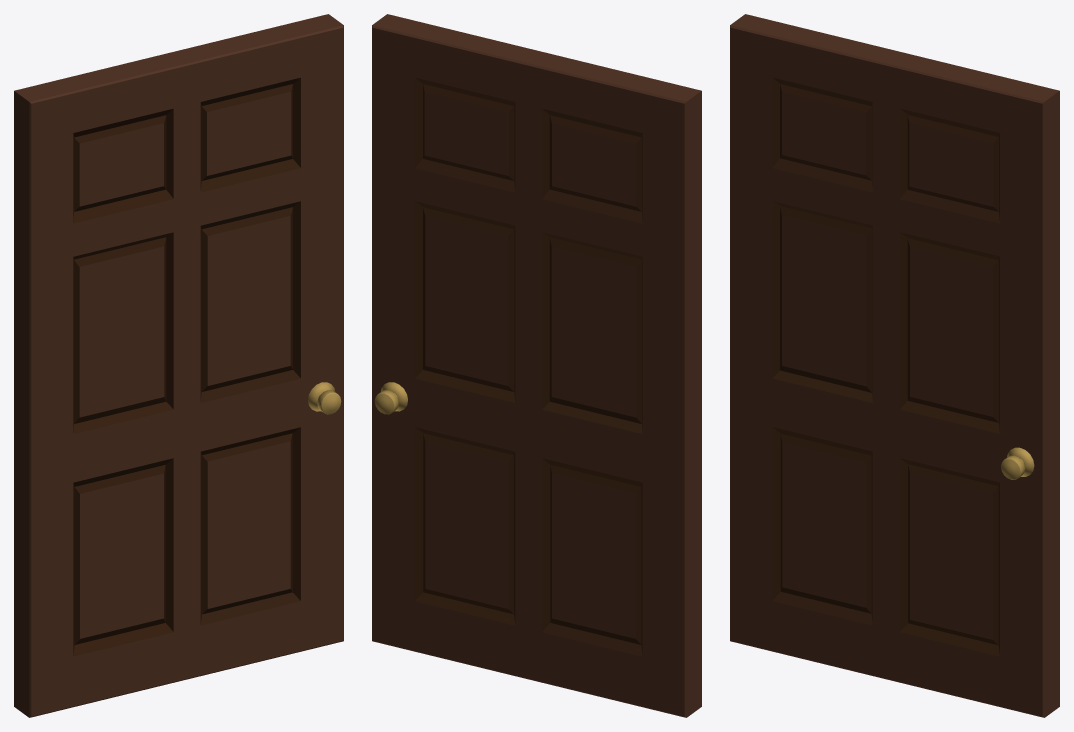
Rendered from MiscDoor.fbx.
3 renders of one model, left to right at view 1: azimuth 30°, elevation 25°; view 2: azimuth 150°, elevation 25°; view 3: azimuth 330°, elevation 25°, orthographic.
Visible parts, largest first — view 1: DoorUVd:polySurface6; view 2: DoorUVd:polySurface6; view 3: DoorUVd:polySurface6.
Boxes of the visible parts, x1,y1,x2,y2 form: DoorUVd:polySurface6: [14, 14, 343, 717]; DoorUVd:polySurface6: [372, 14, 701, 717]; DoorUVd:polySurface6: [730, 14, 1059, 717].
Size of the model in its own units: 80.14 by 150 by 18.05.
